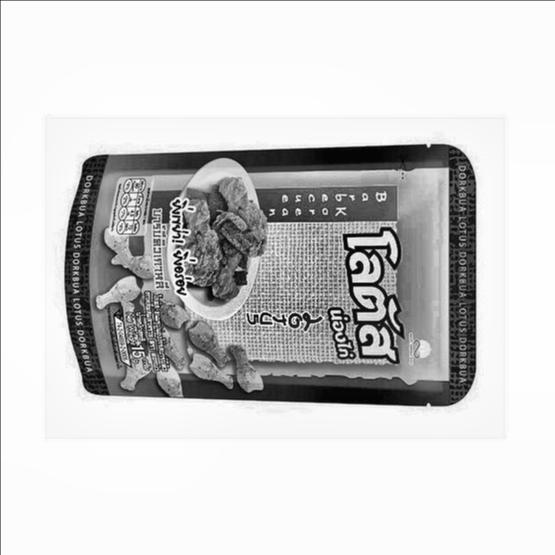snackbag: (42, 107, 500, 435)
